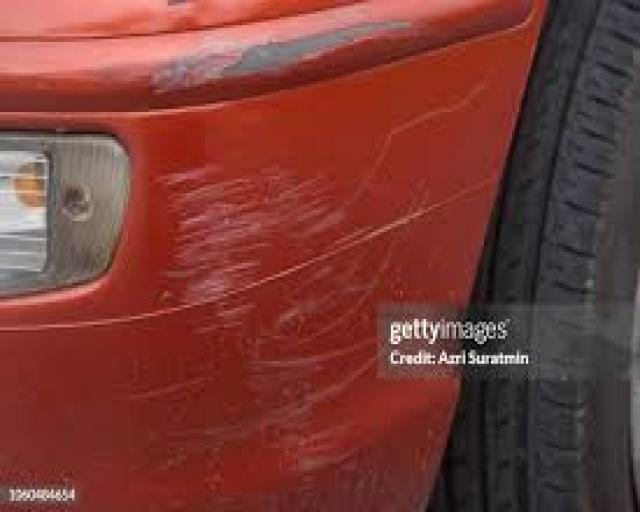scratch: (109, 3, 500, 507)
